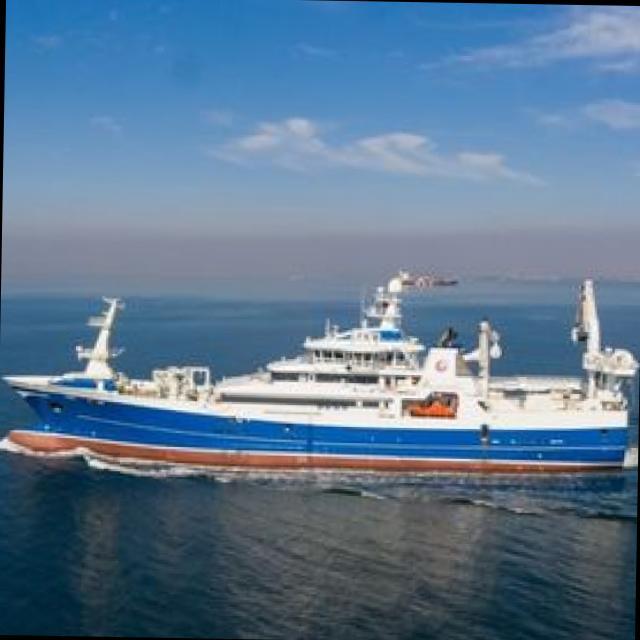boat: (0, 190, 640, 553)
